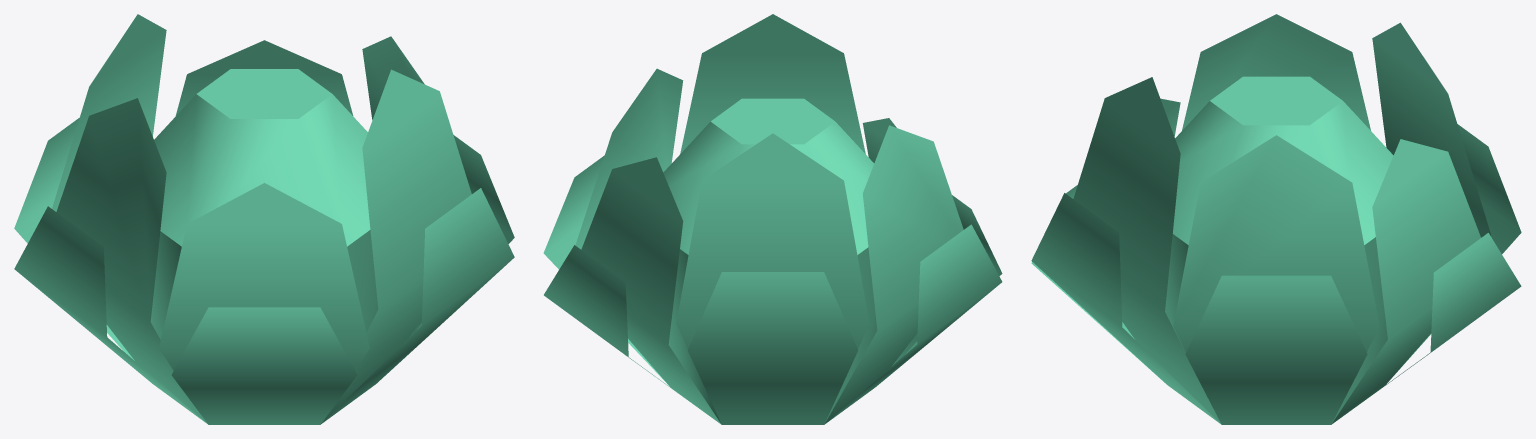
The model's file is Cabbage.glb.
3 views of the same model, side by side, from view 1: azimuth 30°, elevation 25°; view 2: azimuth 150°, elevation 25°; view 3: azimuth 270°, elevation 25° (orthographic). The views are drawn at different scales.
Parts seen in each view (by area): view 1: cabbage; view 2: cabbage; view 3: cabbage.
Boxes of the visible parts, left/top/right/bottom form: cabbage: left=14, top=14, right=514, bottom=424; cabbage: left=543, top=14, right=1002, bottom=424; cabbage: left=1031, top=14, right=1521, bottom=424.
Size of the model in its own units: 0.3794 by 0.3074 by 0.4036.
